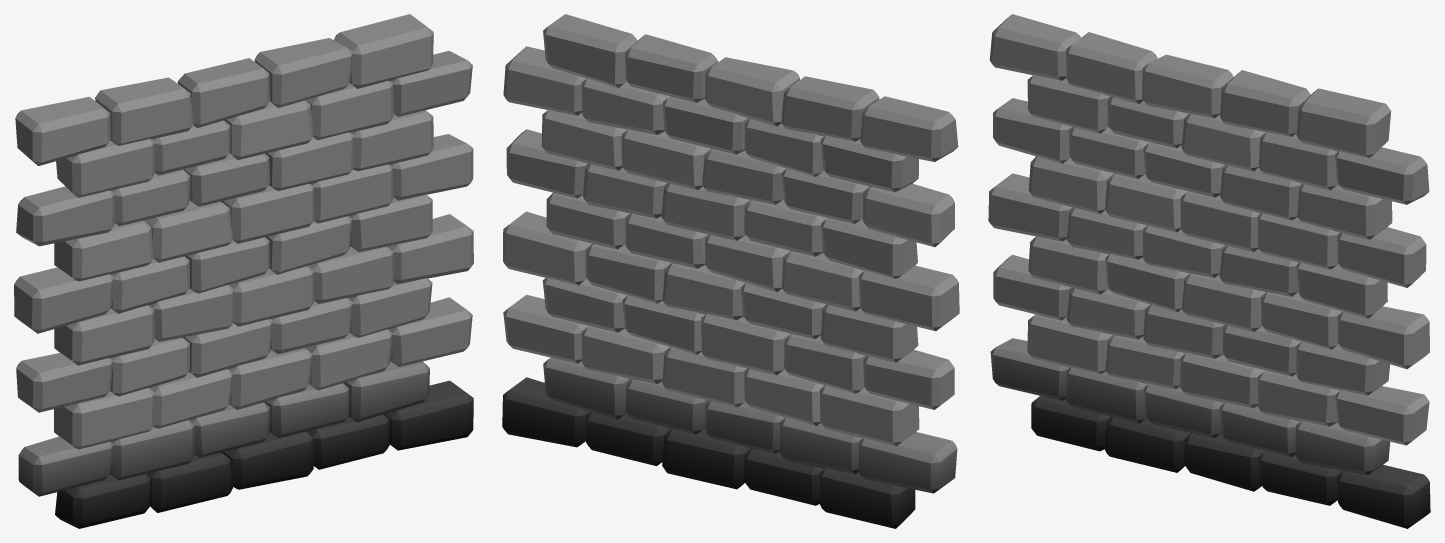
The model's file is BrickWall2x2_01_Mid.fbx.
3 views of the same model, side by side, from view 1: azimuth 30°, elevation 25°; view 2: azimuth 150°, elevation 25°; view 3: azimuth 330°, elevation 25° (orthographic). The views are drawn at different scales.
Visible parts, largest first — view 1: BrickWall2x2_01_Mid; view 2: BrickWall2x2_01_Mid; view 3: BrickWall2x2_01_Mid.
Boxes of the visible parts, x1=… form: BrickWall2x2_01_Mid: x1=14, y1=14, x2=473, y2=528; BrickWall2x2_01_Mid: x1=502, y1=14, x2=959, y2=528; BrickWall2x2_01_Mid: x1=988, y1=14, x2=1430, y2=528.
Bounding box in the file's own units: 222 × 202 × 22.12.
